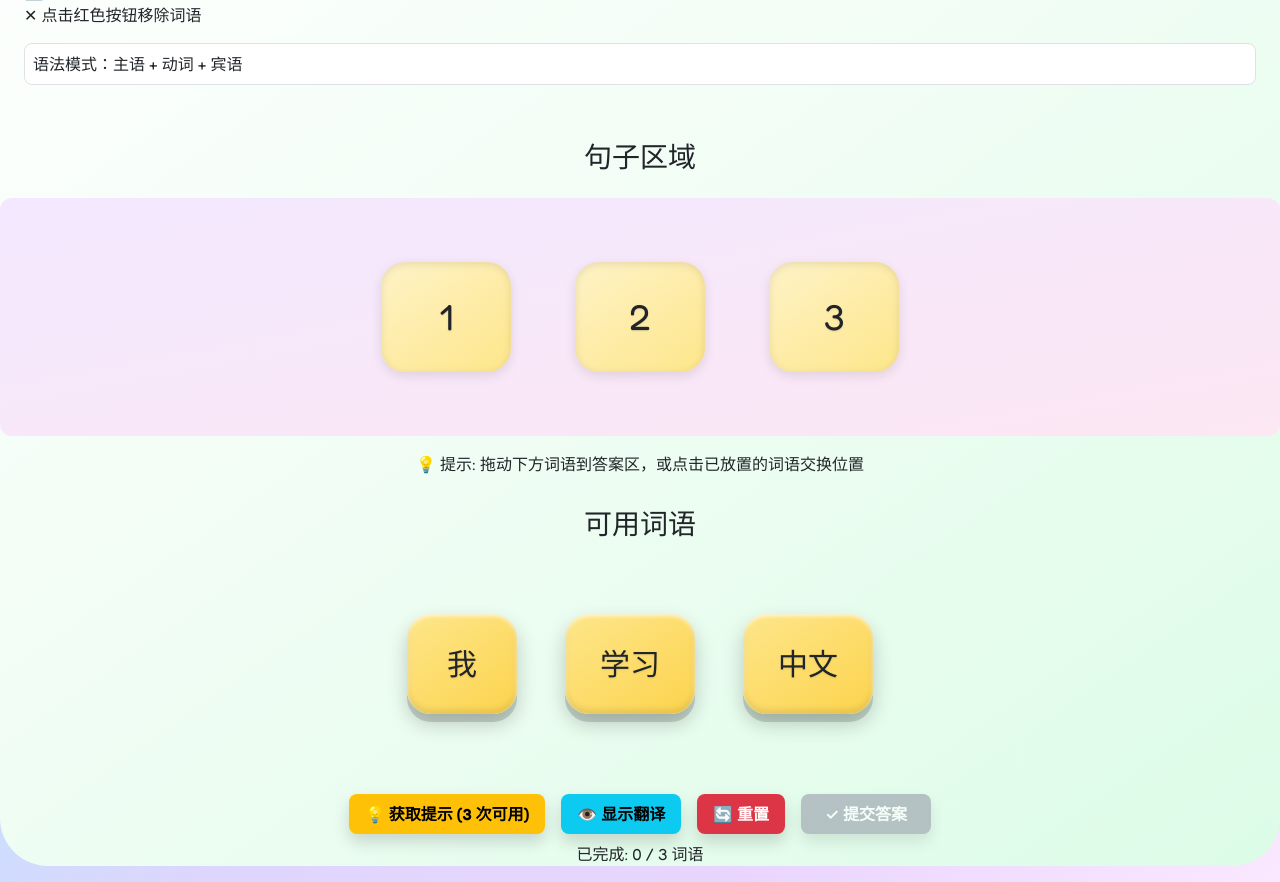
Test: SentenceGame Integration Tests › Hint Functionality › should disable hint button after 3 hints
The image size is (1280, 882).
(page scrolled)
What coordinates should you click on to do the following:
click the button "💡 获取提示 (3 次可用)"
I would click on:
 (447, 814)
Its box is left=349, top=794, right=545, bottom=834.
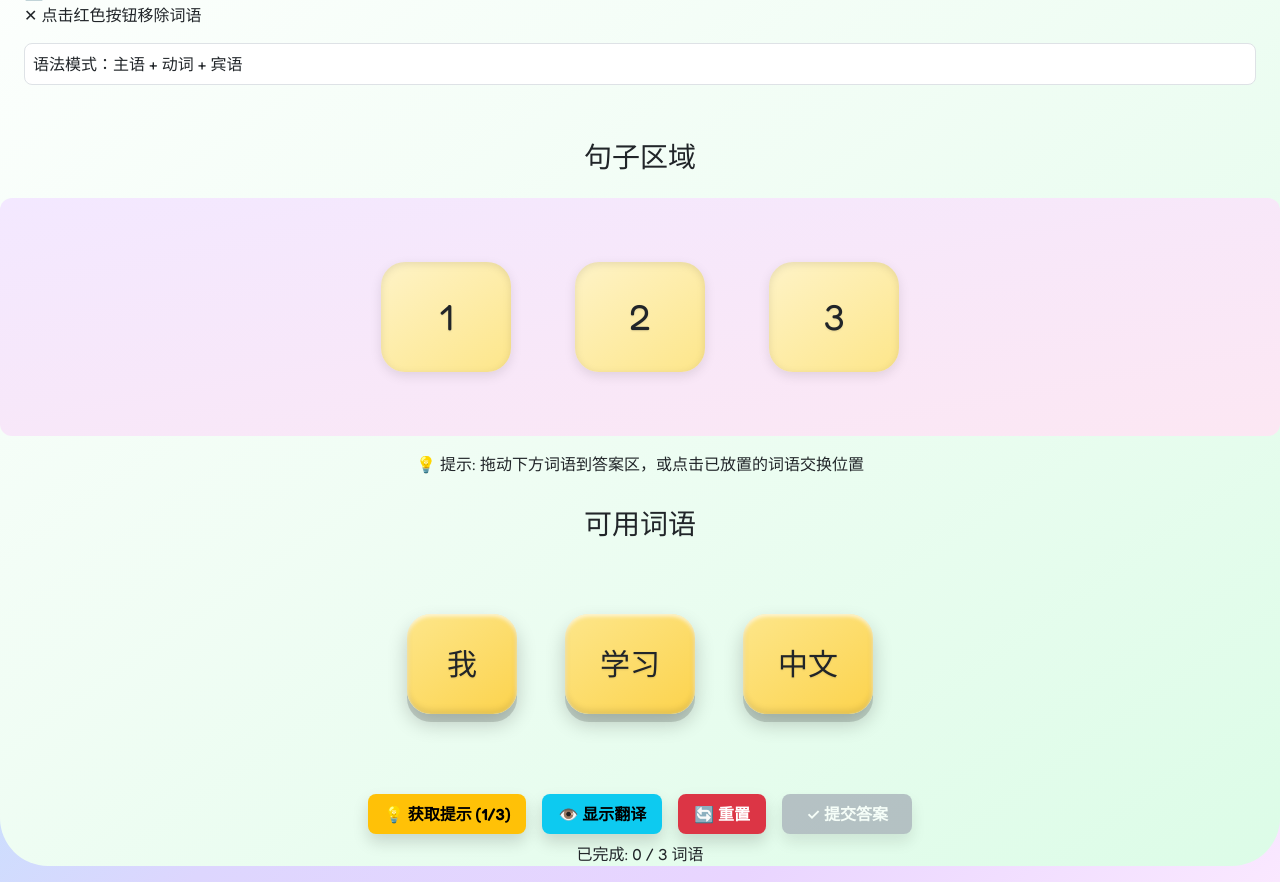
What coordinates should you click on to do the following:
click the button "💡 获取提示 (1/3)"
I would click on:
 (447, 814)
Its box is left=368, top=794, right=526, bottom=834.
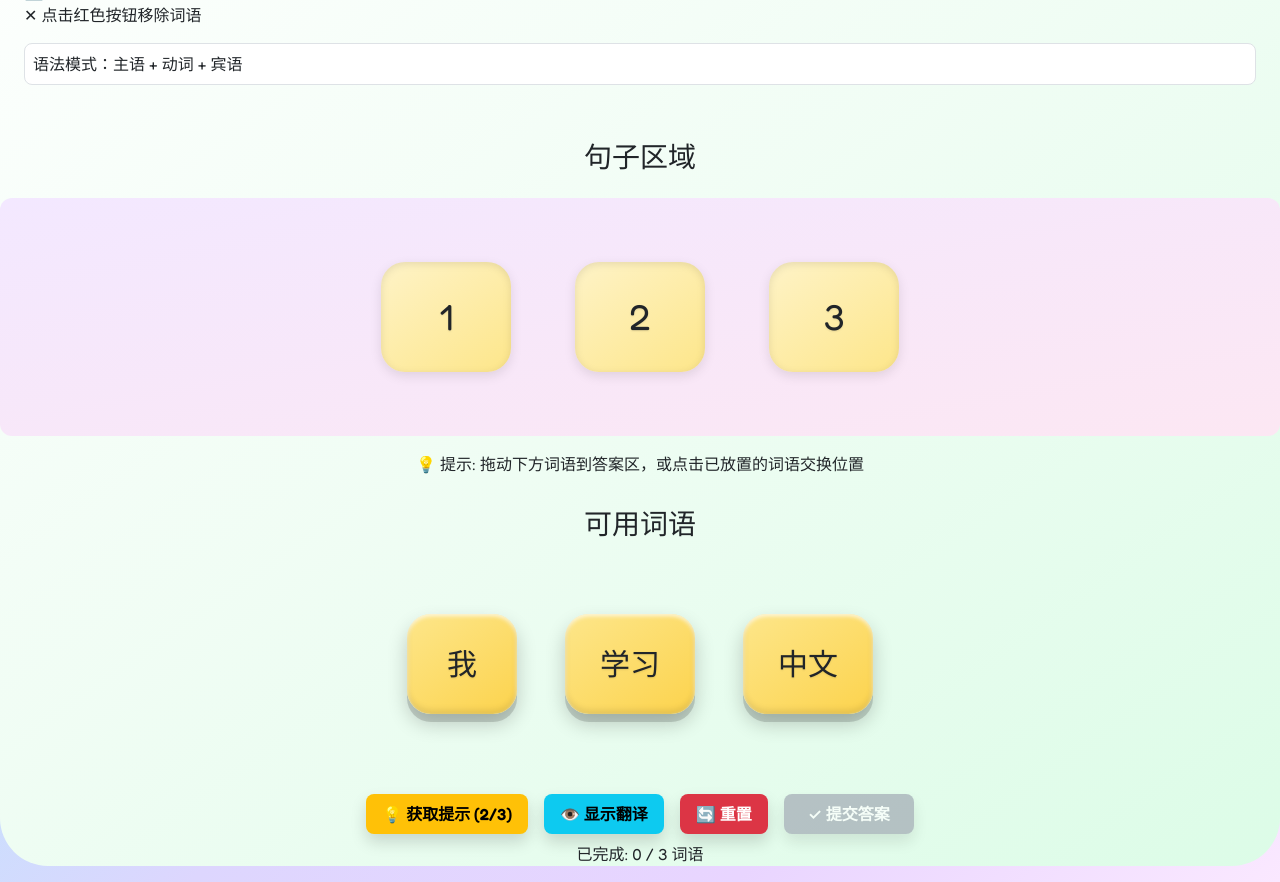
What coordinates should you click on to do the following:
click the button "💡 获取提示 (2/3)"
I would click on:
 (447, 814)
Its box is left=366, top=794, right=528, bottom=834.
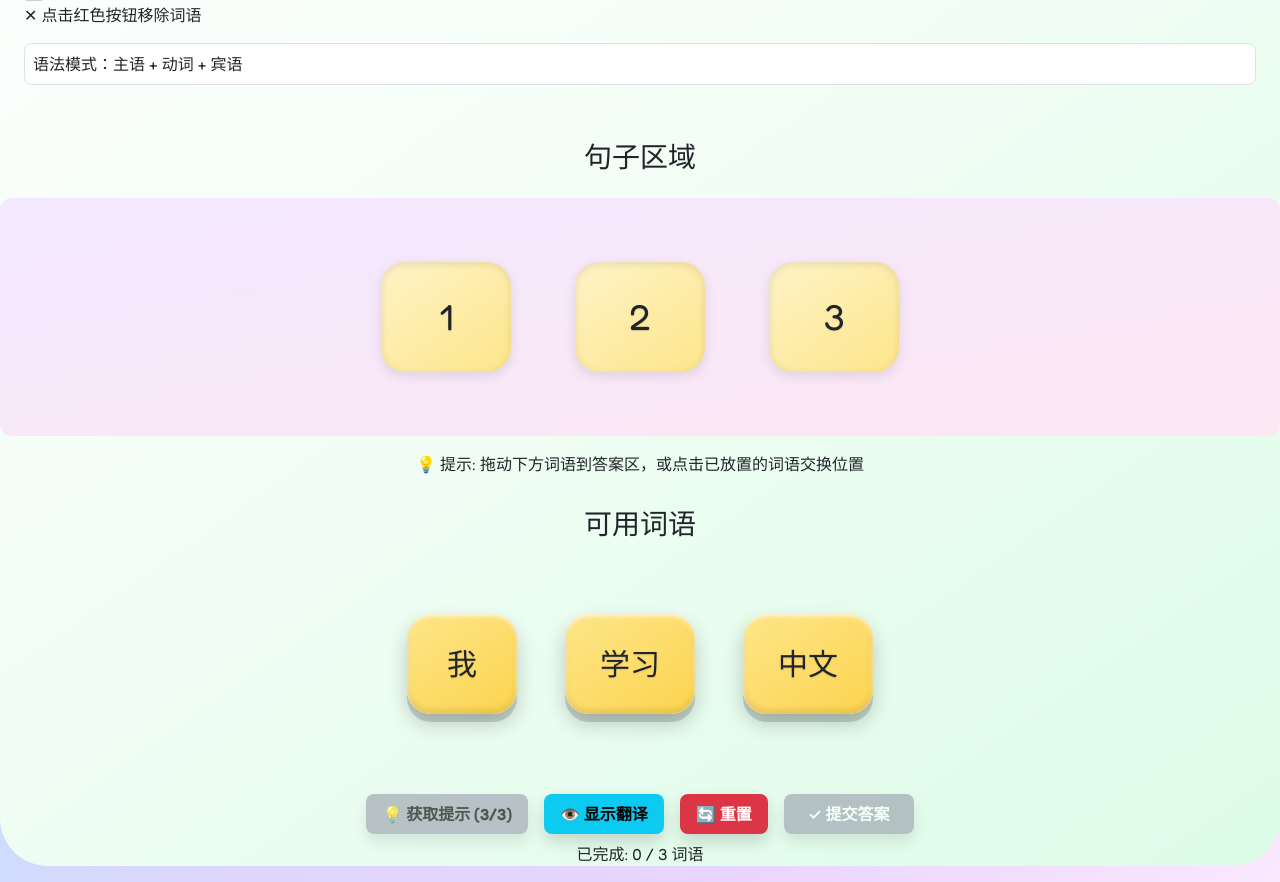
Now the button "💡 获取提示 (3/3)" is disabled, box left=366, top=794, right=528, bottom=834
